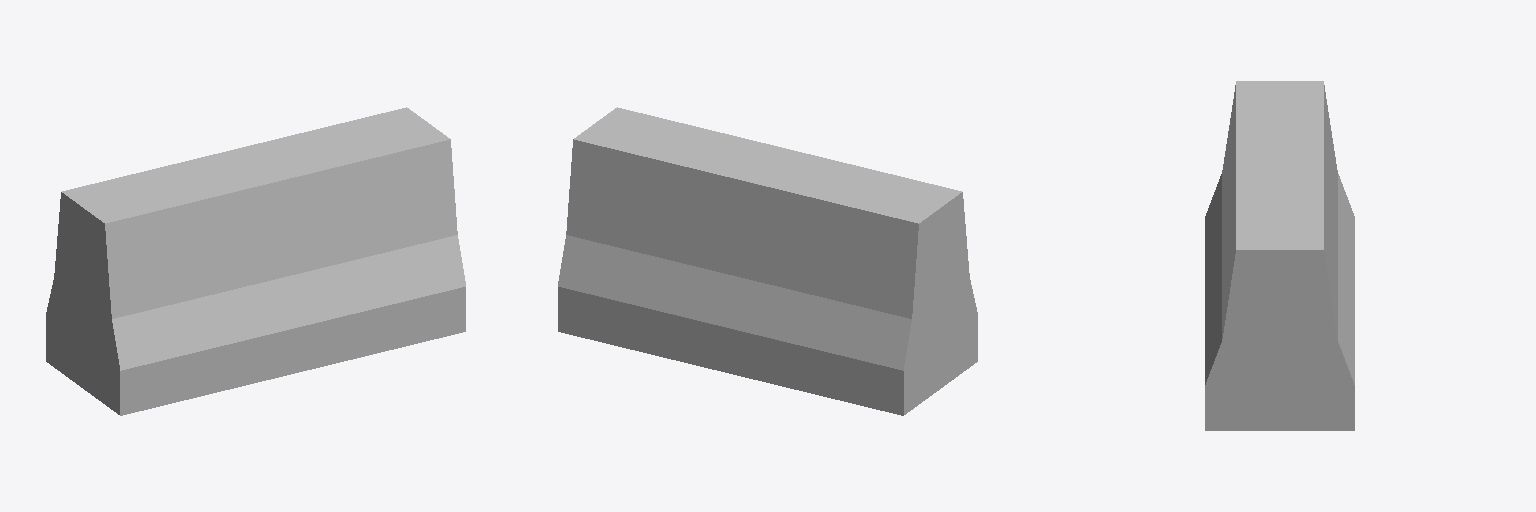
The model's file is detail-barrier-strong-type-b.obj.
3 views of the same model, side by side, from view 1: azimuth 30°, elevation 25°; view 2: azimuth 150°, elevation 25°; view 3: azimuth 270°, elevation 25° (orthographic).
Visible parts, largest first — view 1: detail-barrier-strong-type-b; view 2: detail-barrier-strong-type-b; view 3: detail-barrier-strong-type-b.
Part boxes in pixels (x1,y1,x2,y2): detail-barrier-strong-type-b: (46, 107, 465, 415); detail-barrier-strong-type-b: (558, 107, 977, 415); detail-barrier-strong-type-b: (1205, 81, 1354, 430).
Size of the model in its own units: 0.664 by 0.332 by 0.249.